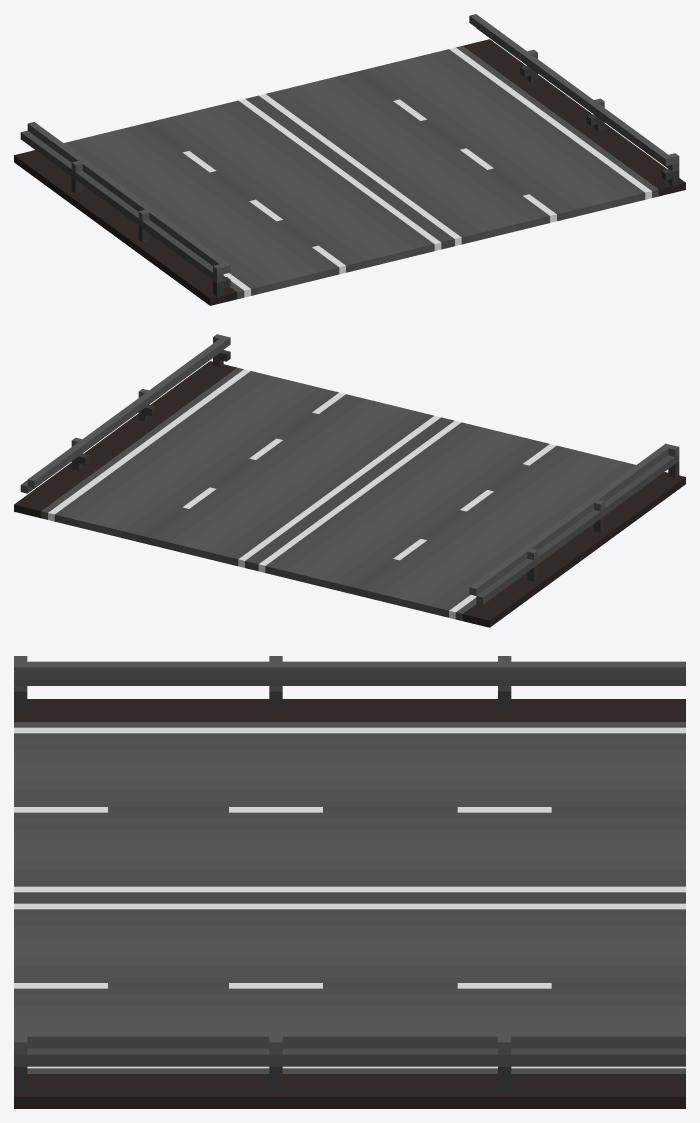
Rendered from Road.obj.
The picture shows the model from 3 angles, top to bottom: view 1: azimuth 30°, elevation 25°; view 2: azimuth 150°, elevation 25°; view 3: azimuth 270°, elevation 25°; orthographic projection. The views are drawn at different scales.
Bounding box in the file's own units: 7 × 0.5 × 5.
1 material, 1 textured.
